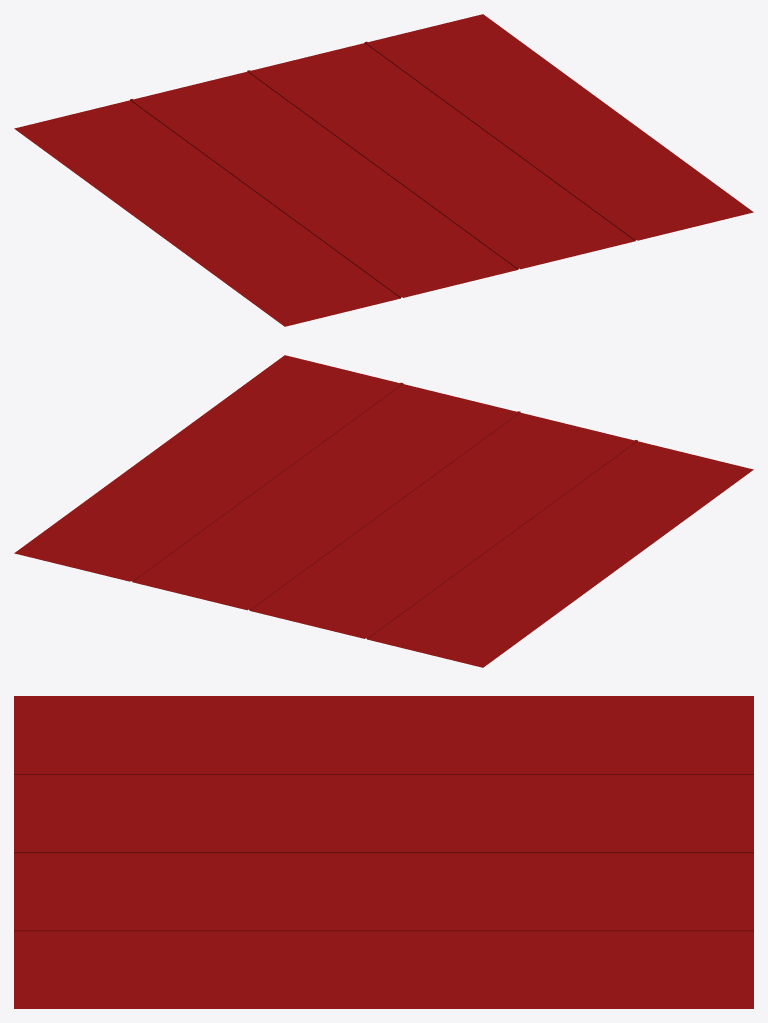
Rendered from Ceiling.dae.
The picture shows the model from 3 angles, top to bottom: view 1: azimuth 30°, elevation 25°; view 2: azimuth 150°, elevation 25°; view 3: azimuth 270°, elevation 25°; orthographic projection. The views are drawn at different scales.
Parts seen in each view (by area): view 1: Cube; view 2: Cube; view 3: Cube.
Part boxes in pixels (x1,y1,x2,y2): Cube: (14, 14, 753, 326); Cube: (14, 355, 753, 667); Cube: (14, 696, 753, 1008).
Size of the model in its own units: 2.73 by 2.73 by 0.005.
